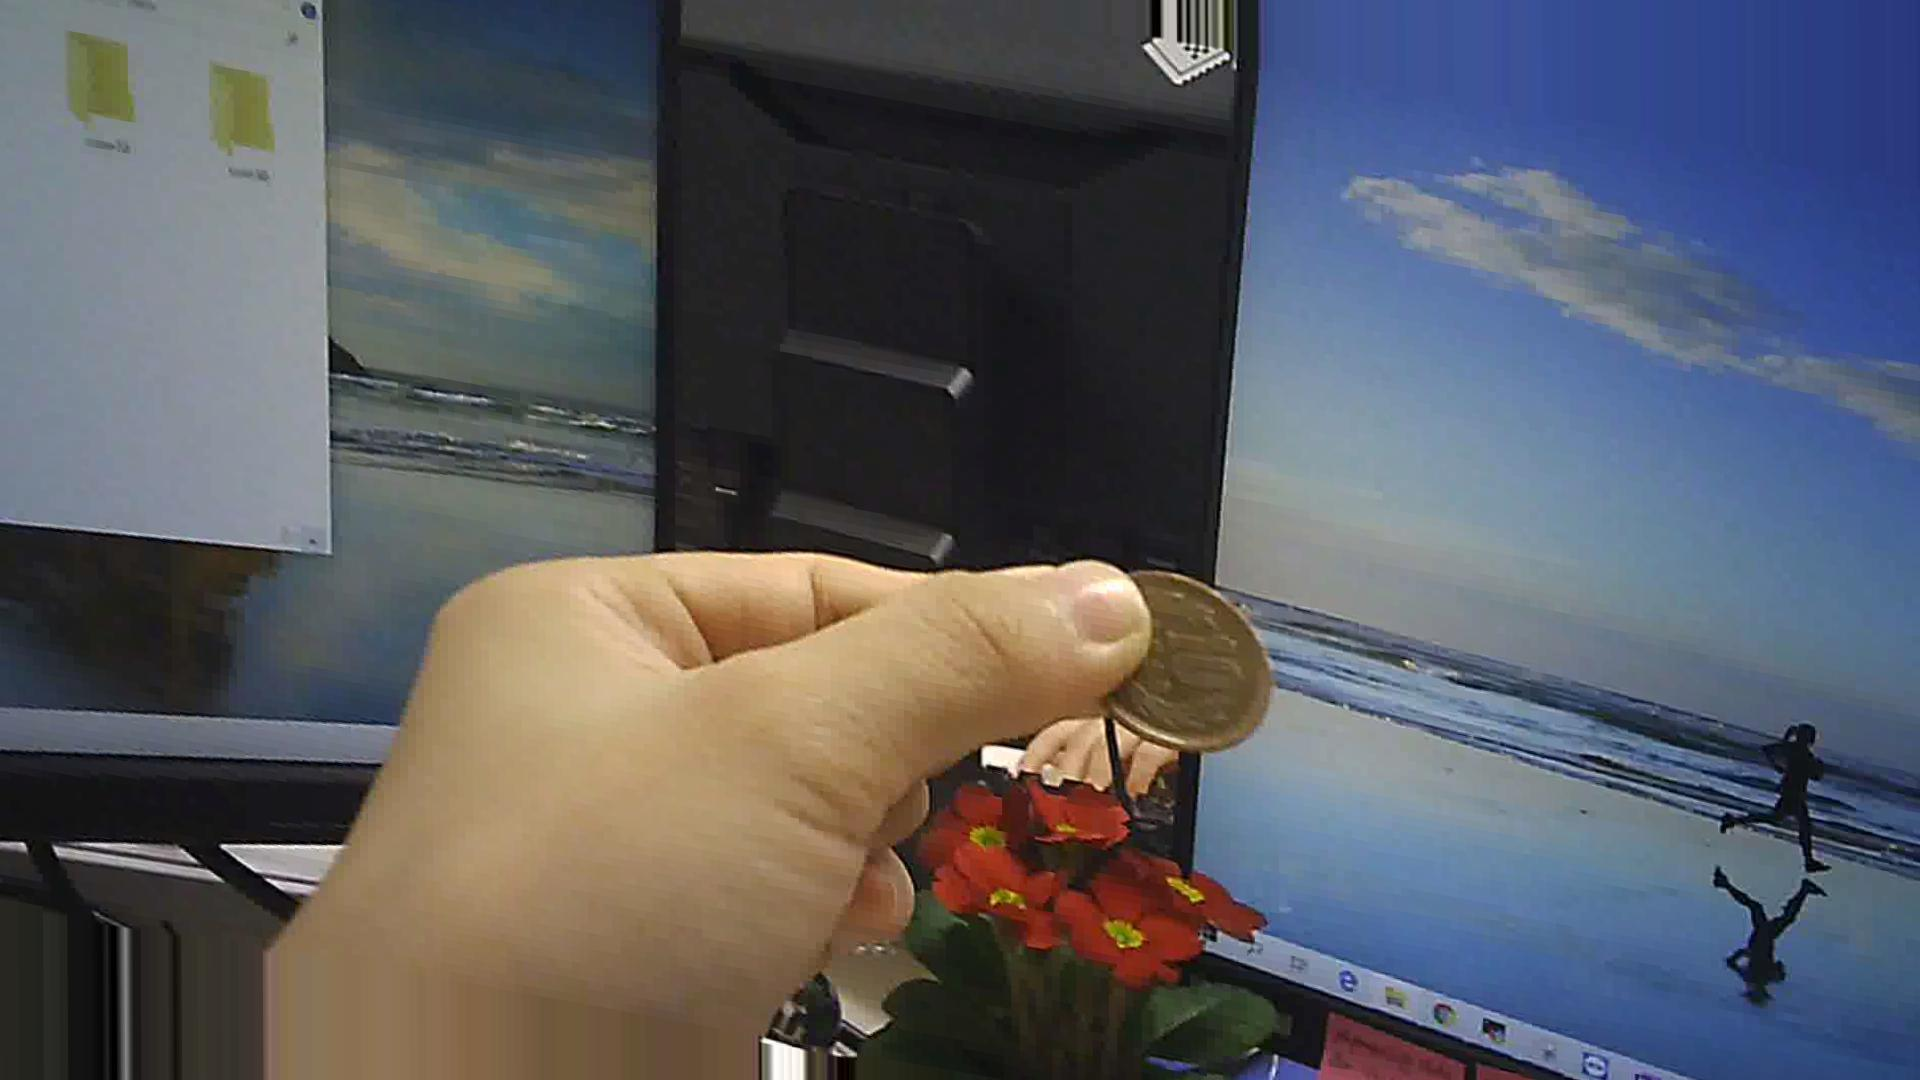10 Yen: (1072, 553, 1274, 753)
